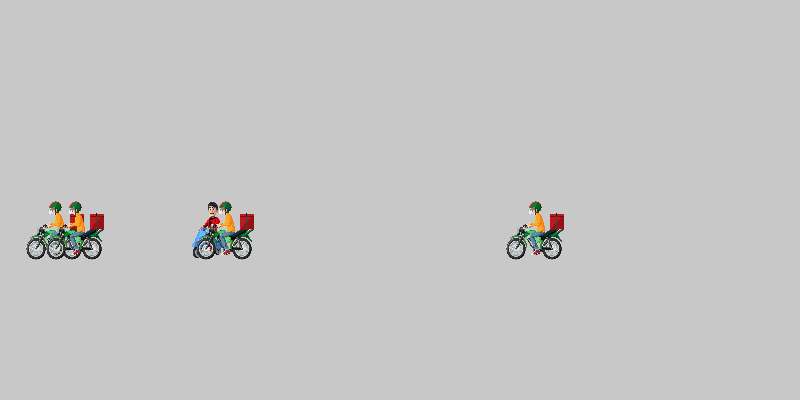helmet: (25, 200, 85, 260), (45, 200, 105, 260), (195, 200, 255, 260), (505, 200, 565, 260)
no_helmet: (180, 200, 240, 260)
